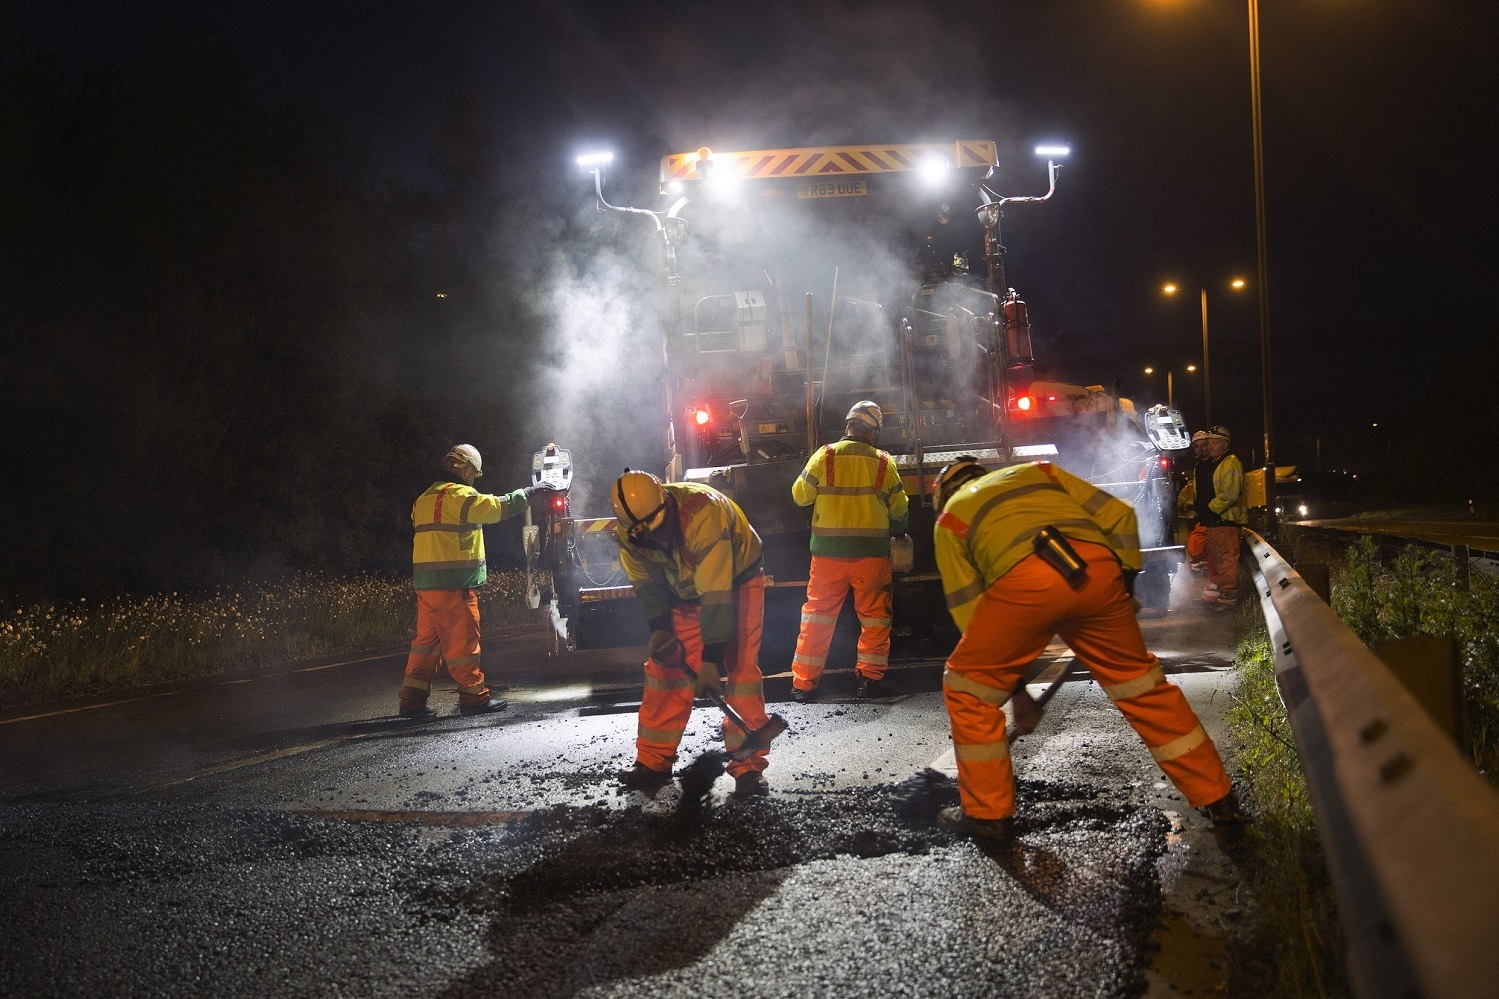white: (439, 438, 484, 486), (841, 399, 883, 442), (1205, 421, 1233, 459), (1190, 429, 1208, 457)
yellow: (609, 469, 674, 547), (925, 452, 993, 516)
